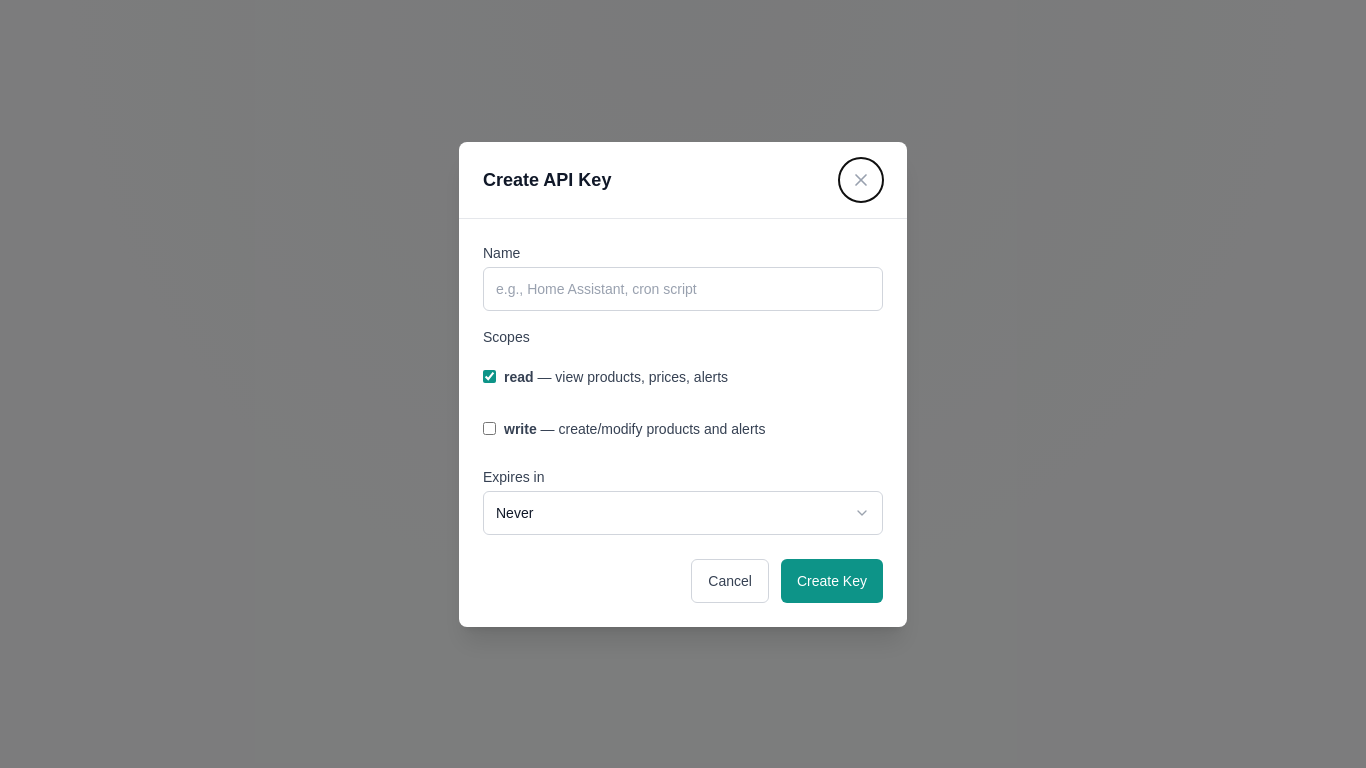
Test: ApiKeyCreateModal › should show error when name is empty on submit
The image size is (1366, 768).
Click the button "Create Key" at (832, 580), box [781,558,883,602]
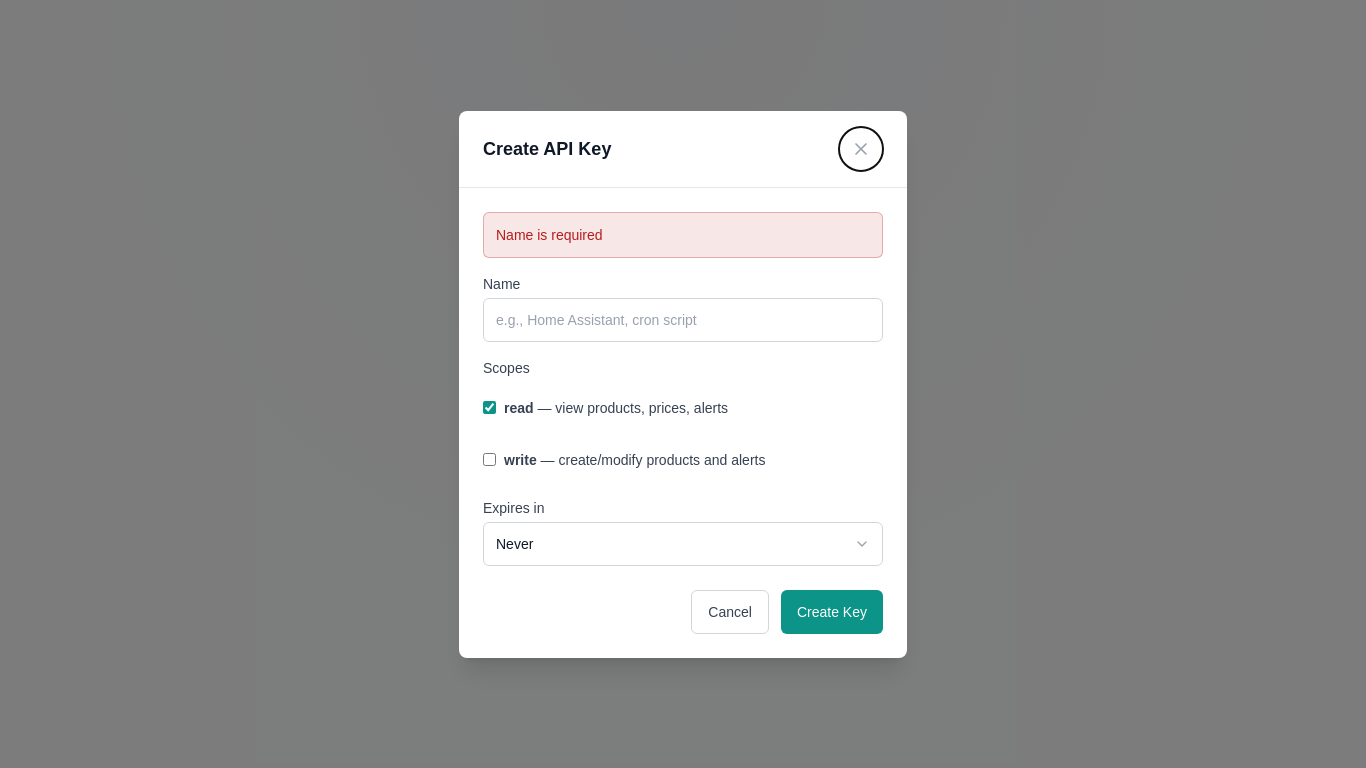
Result: the message reads "Name is required" at [496,226,603,242]
